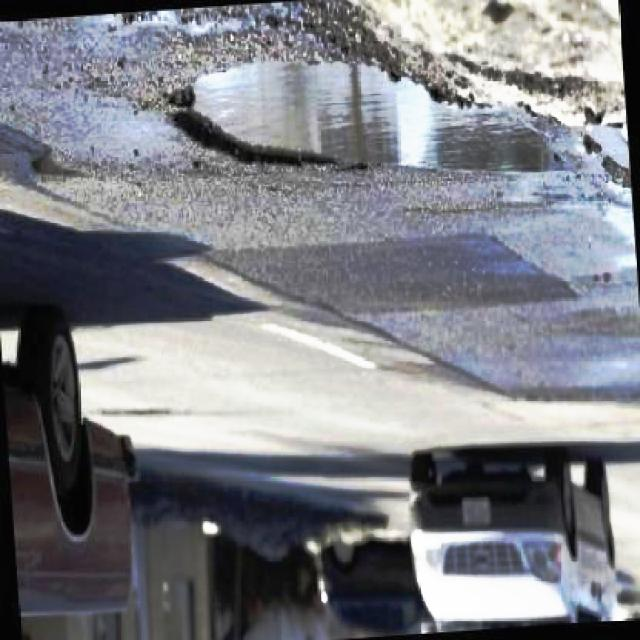pothole: (168, 48, 632, 177)
